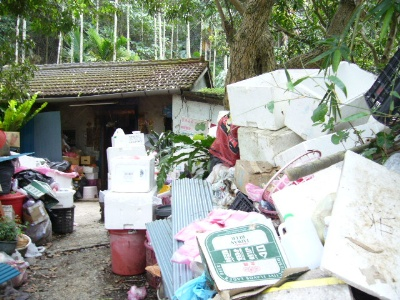bucket: (105, 228, 150, 277)
styrofoam: (227, 67, 324, 128), (235, 126, 303, 165), (103, 192, 157, 229), (110, 154, 155, 193)
